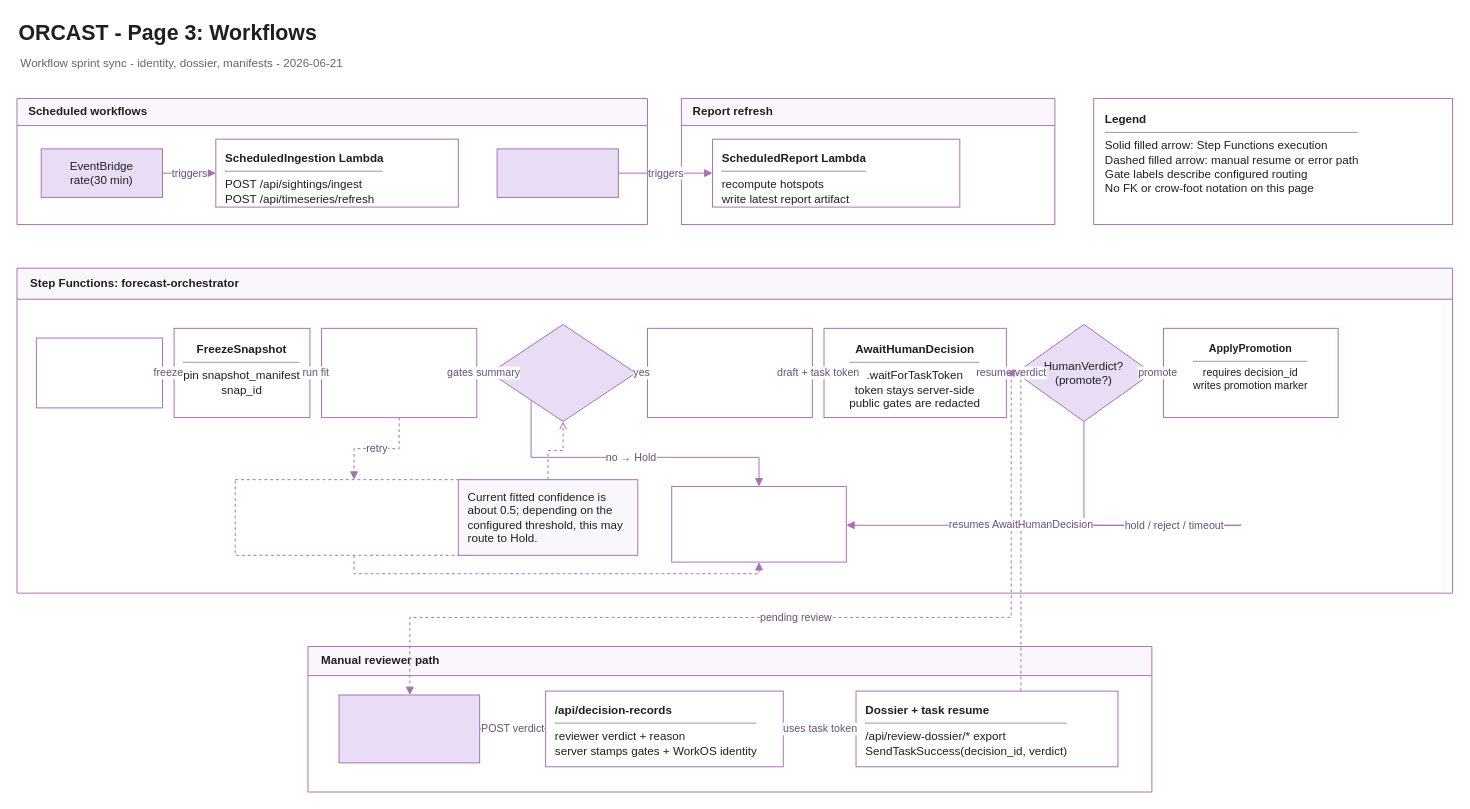
Image size: 1470x809. Some labels were removed from this diagram. Each missing label, with the centre of its shape:
DraftPromotion Bedrock supervisor deterministic fallback: (x=729, y=372)
EventBridge rate(1 hour): (x=557, y=172)
FitAndGate NB-GLM fit + gates reads snap_id repr_id + run_id: (x=399, y=372)
GatesPassed? (fitted, conf ≥ 0.6): (x=562, y=372)
Hold keep forecast broad await better evidence: (x=758, y=523)
Ingest refresh sources: (x=98, y=372)
Retry / Catch Ingest ×2, FitAndGate ×1 retries AwaitHumanDecision timeout → Hold: (x=353, y=517)
Reviewer UI WorkOS session /gates + /decisions: (x=409, y=728)
